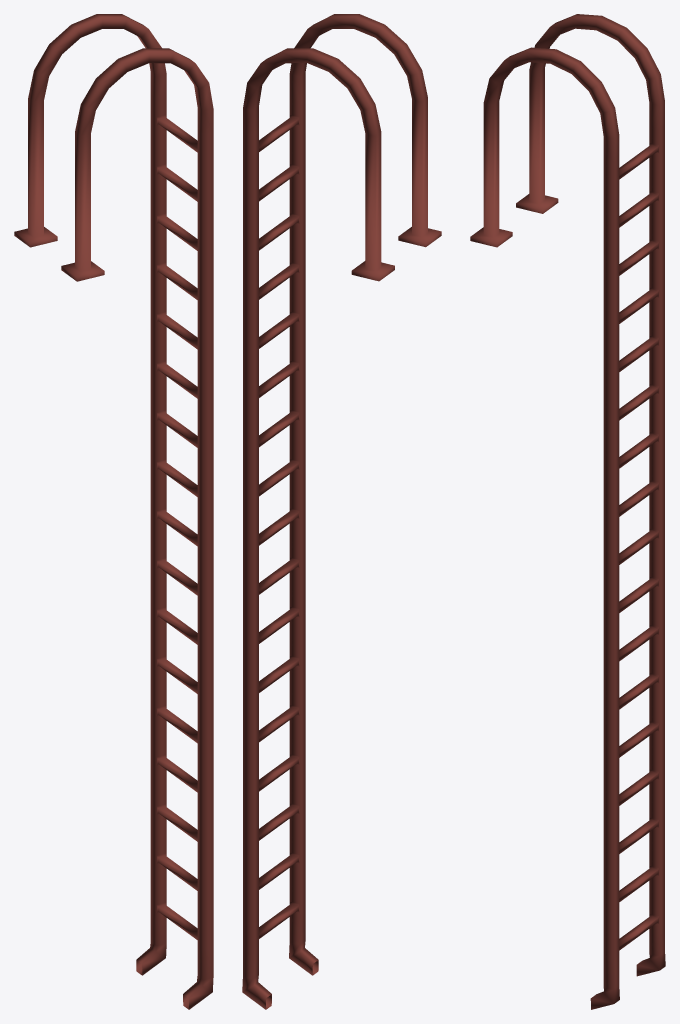
The model's file is Escalerilla_acceso_a_Jean_Roch.fbx.
The picture shows the model from 3 angles, left to right: view 1: azimuth 30°, elevation 25°; view 2: azimuth 150°, elevation 25°; view 3: azimuth 330°, elevation 25°; orthographic projection. The views are drawn at different scales.
Parts seen in each view (by area): view 1: Escalerilla_Torre_C; view 2: Escalerilla_Torre_C; view 3: Escalerilla_Torre_C.
Boxes of the visible parts, x1=… form: Escalerilla_Torre_C: x1=14, y1=14, x2=213, y2=1009; Escalerilla_Torre_C: x1=242, y1=14, x2=441, y2=1009; Escalerilla_Torre_C: x1=470, y1=14, x2=665, y2=1009.
Size of the model in its own units: 127 by 828 by 97.11.
